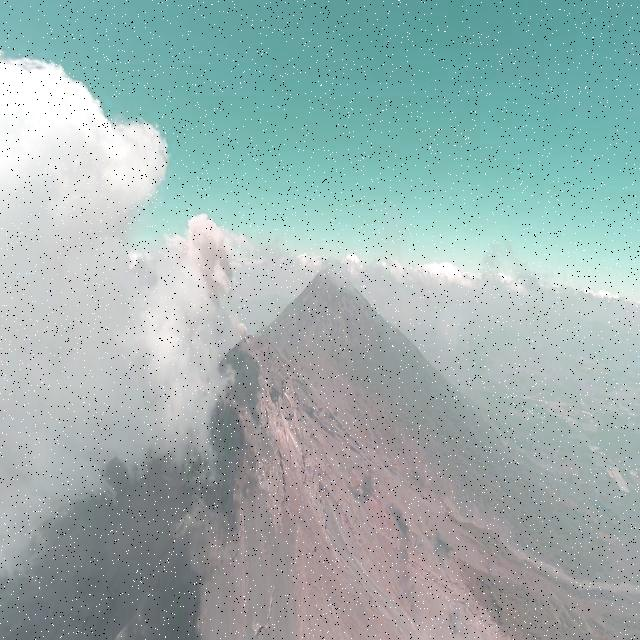Plume: (184, 208, 238, 318), (234, 316, 248, 344)
Summit: (202, 330, 344, 480)
